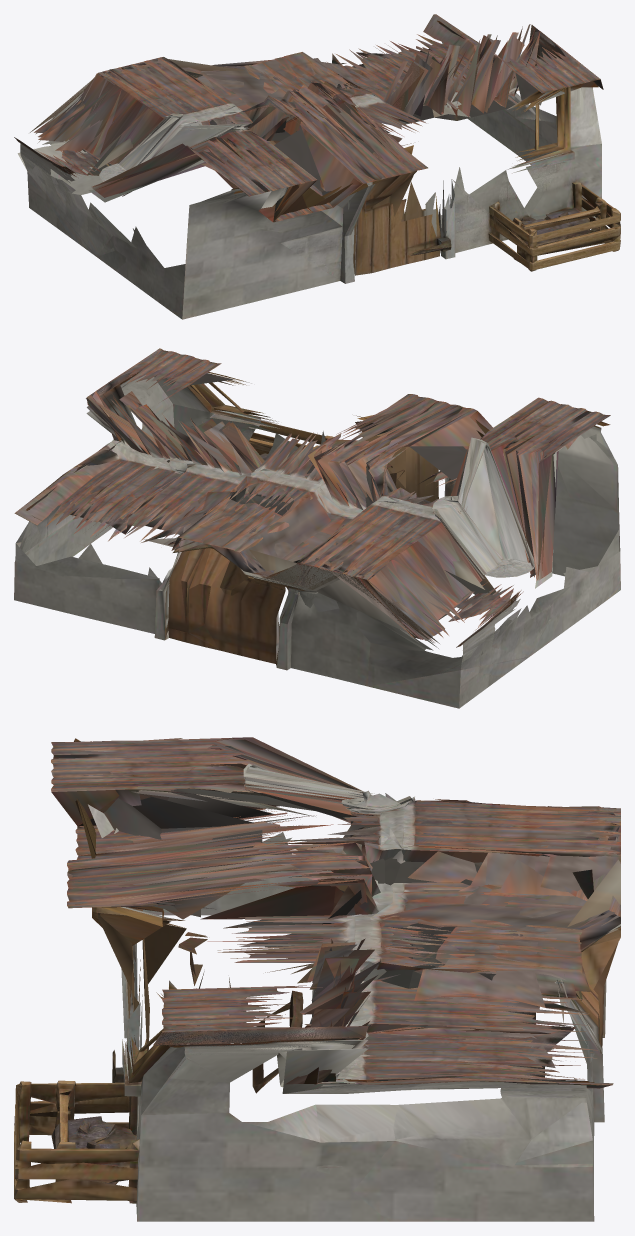
Rendered from shanty_wreck.glb.
3 views of the same model, one above another, from view 1: azimuth 30°, elevation 25°; view 2: azimuth 150°, elevation 25°; view 3: azimuth 270°, elevation 25° (orthographic). The views are drawn at different scales.
Parts seen in each view (by area): view 1: wall.001, roof.001; view 2: wall.001, roof.001; view 3: wall.001, roof.001.
Boxes of the visible parts, left/top/right/bottom form: wall.001: left=14, top=17, right=620, bottom=319; roof.001: left=14, top=14, right=600, bottom=220; wall.001: left=14, top=349, right=620, bottom=708; roof.001: left=15, top=348, right=600, bottom=647; wall.001: left=14, top=737, right=620, bottom=1221; roof.001: left=51, top=741, right=620, bottom=1084.
Size of the model in its own units: 5.79 by 1.86 by 4.7.
1 material, 1 textured.
